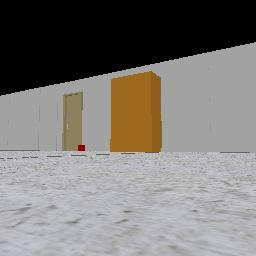rosu: (78, 144, 84, 150)
tonomat: (110, 71, 160, 151)
